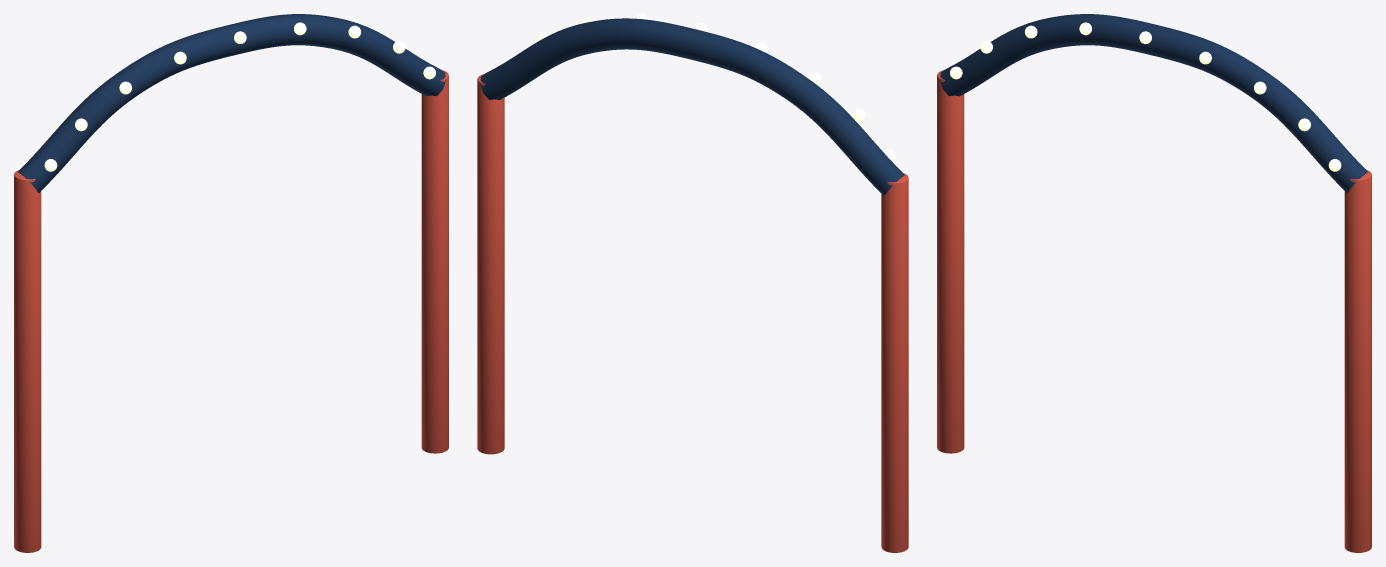
File: fair-arch-60b2be1e4dda.glb
The picture shows the model from 3 angles, left to right: view 1: azimuth 30°, elevation 25°; view 2: azimuth 150°, elevation 25°; view 3: azimuth 330°, elevation 25°; orthographic projection.
Visible parts, largest first — view 1: Mesh_Carnival_Coral, Arch_Crown, Mesh_Festoon_Bulb; view 2: Mesh_Carnival_Coral, Arch_Crown, Mesh_Festoon_Bulb; view 3: Mesh_Carnival_Coral, Arch_Crown, Mesh_Festoon_Bulb.
Boxes of the visible parts, <box> form: Mesh_Carnival_Coral: <box>14,70,448,552</box>; Arch_Crown: <box>18,14,445,192</box>; Mesh_Festoon_Bulb: <box>44,22,435,171</box>; Mesh_Carnival_Coral: <box>477,74,908,552</box>; Arch_Crown: <box>480,18,904,195</box>; Mesh_Festoon_Bulb: <box>510,14,895,161</box>; Mesh_Carnival_Coral: <box>937,70,1371,552</box>; Arch_Crown: <box>940,14,1367,192</box>; Mesh_Festoon_Bulb: <box>950,22,1341,171</box>.
Size of the model in its own units: 5.08 by 5.31 by 0.405.
